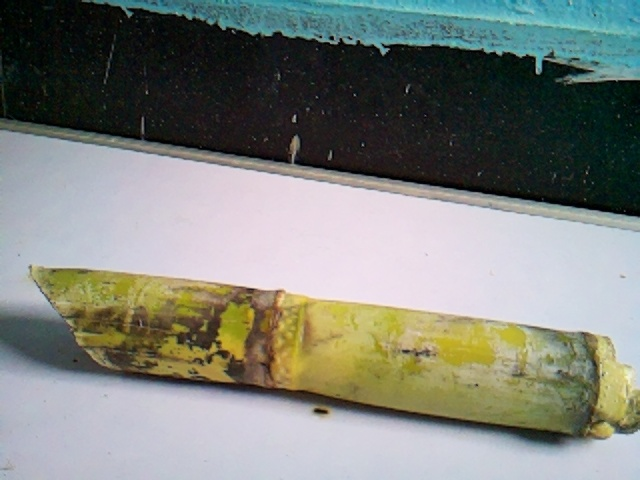Good Sugarcane: (28, 262, 640, 442)
Node: (232, 283, 328, 405), (562, 329, 622, 445)
